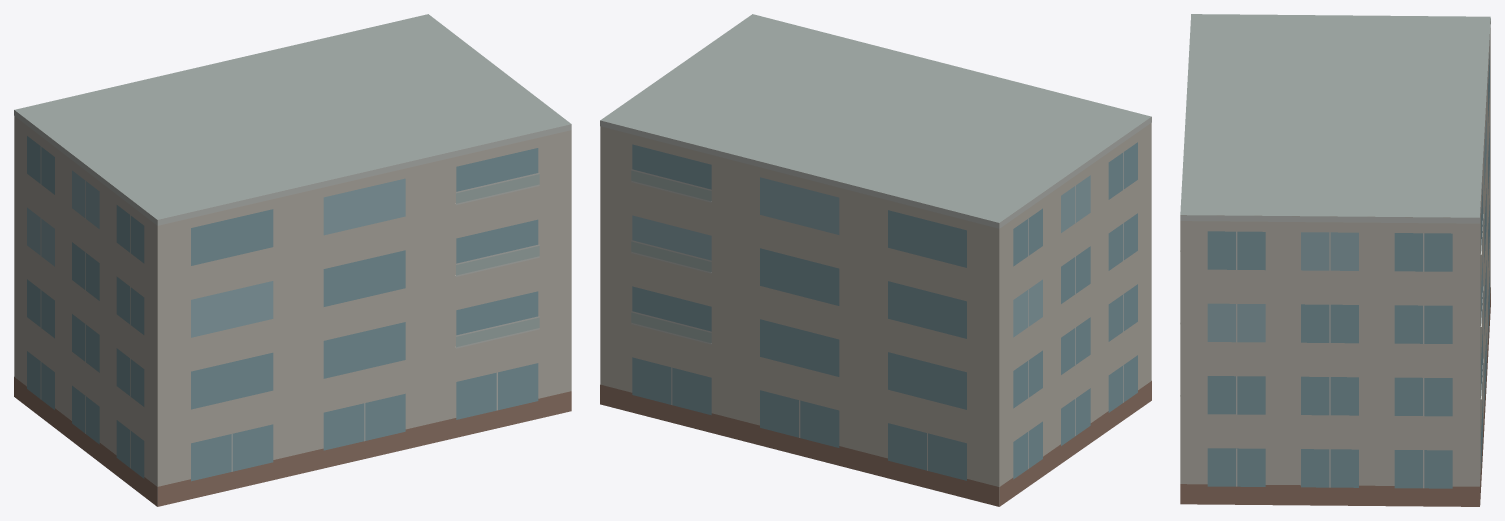
The model's file is survey-upis-32603470.glb.
3 views of the same model, side by side, from view 1: azimuth 30°, elevation 25°; view 2: azimuth 150°, elevation 25°; view 3: azimuth 270°, elevation 25° (orthographic).
Visible parts, largest first — view 1: survey-upis-32603470.tmp; view 2: survey-upis-32603470.tmp; view 3: survey-upis-32603470.tmp.
Part boxes in pixels (x1=…): survey-upis-32603470.tmp: x1=14, y1=14, x2=571, y2=506; survey-upis-32603470.tmp: x1=600, y1=14, x2=1151, y2=506; survey-upis-32603470.tmp: x1=1180, y1=14, x2=1490, y2=506.
Size of the model in its own units: 17.84 by 11.8 by 11.5.
